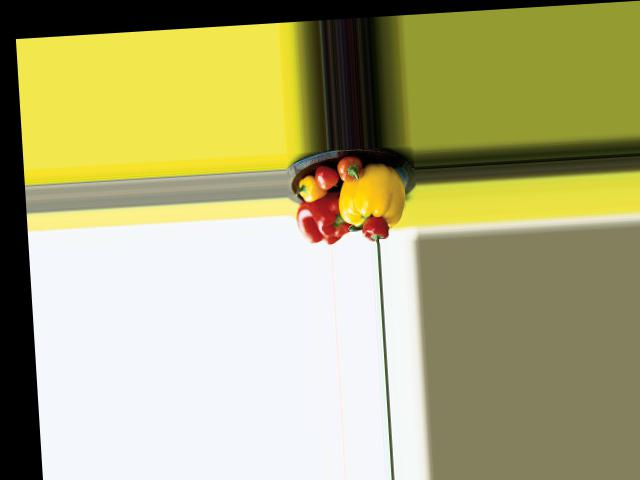bell_pepper: (295, 176, 324, 203)
